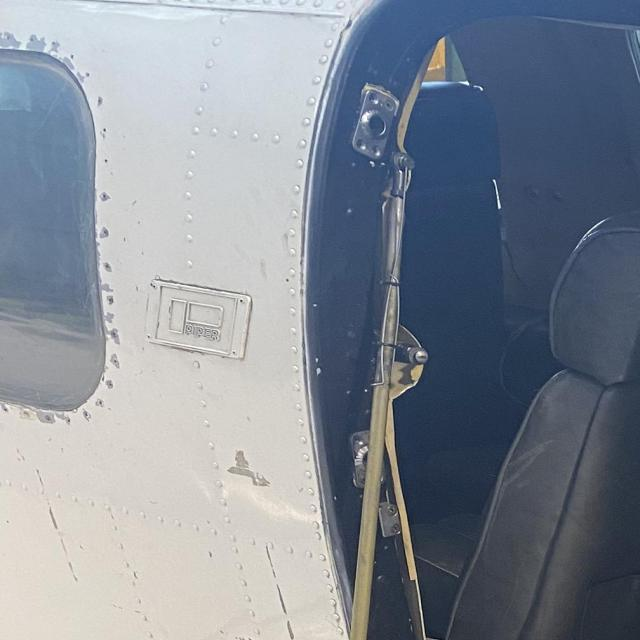Paint-off: (101, 304, 119, 331), (99, 276, 115, 296)
